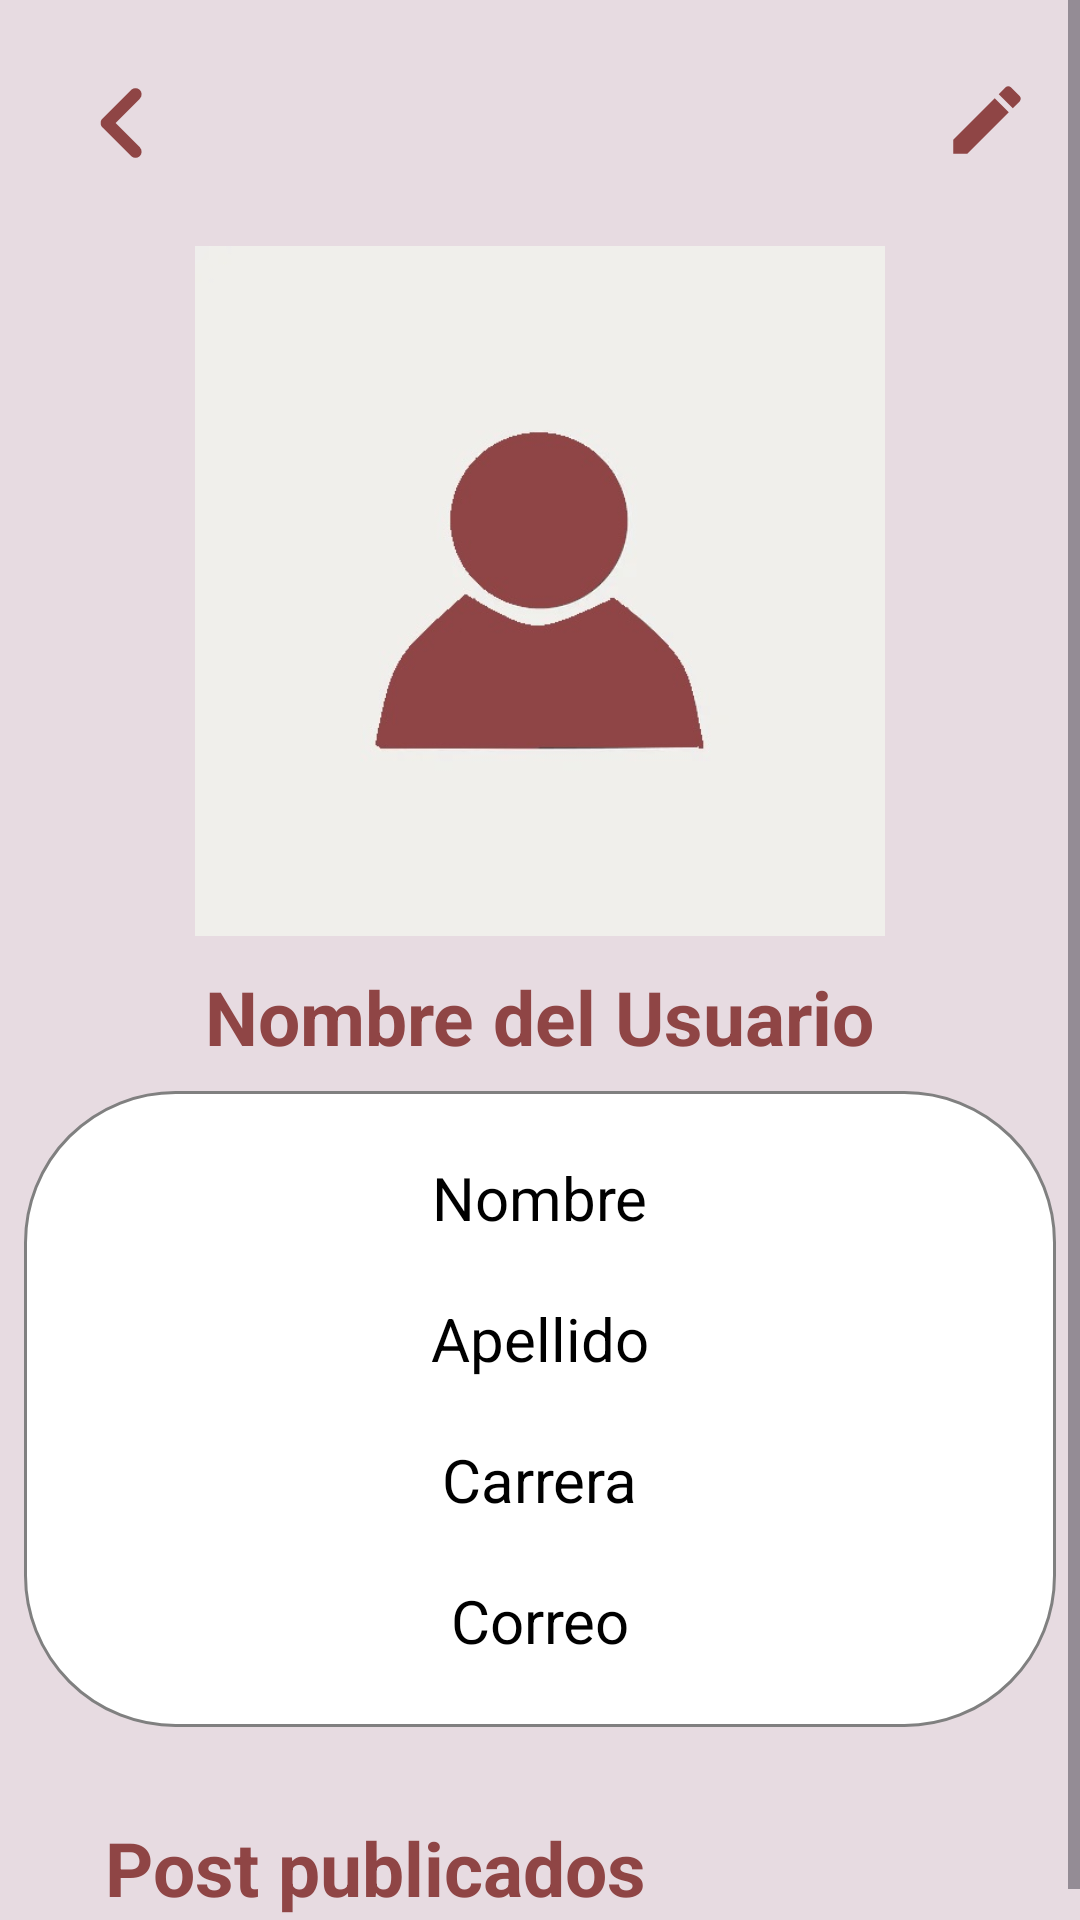

Icons on this 1080 × 1920 Android screen, each with the point to tap as (x=x, y=y):
Editar: (x=987, y=120)
Volver: (x=121, y=123)
